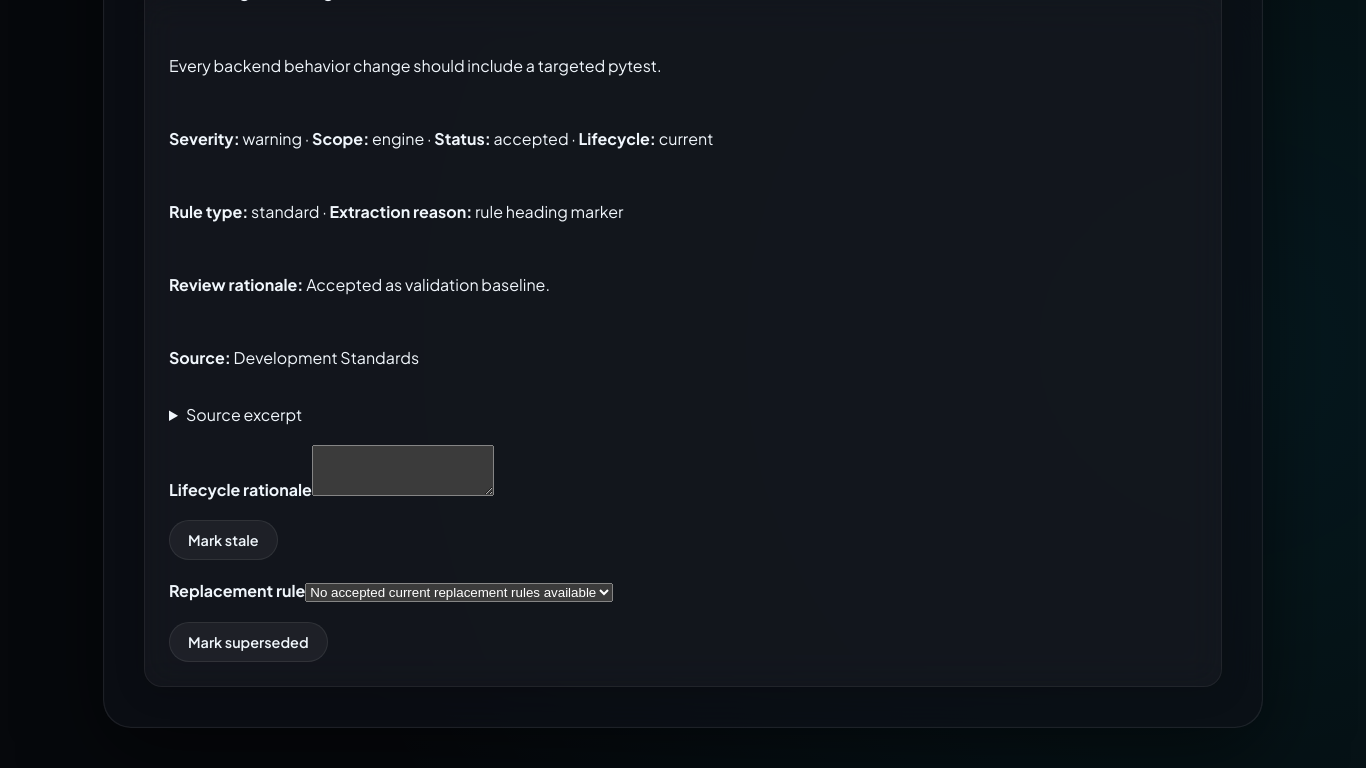
Test: GovernancePageContent › marks accepted current rules stale with rationale without a reload
(page scrolled)
Type "Replaced by stricter validation evidence." into the text box labelled "Lifecycle rationale" at (403, 471), box [312,445,494,496]
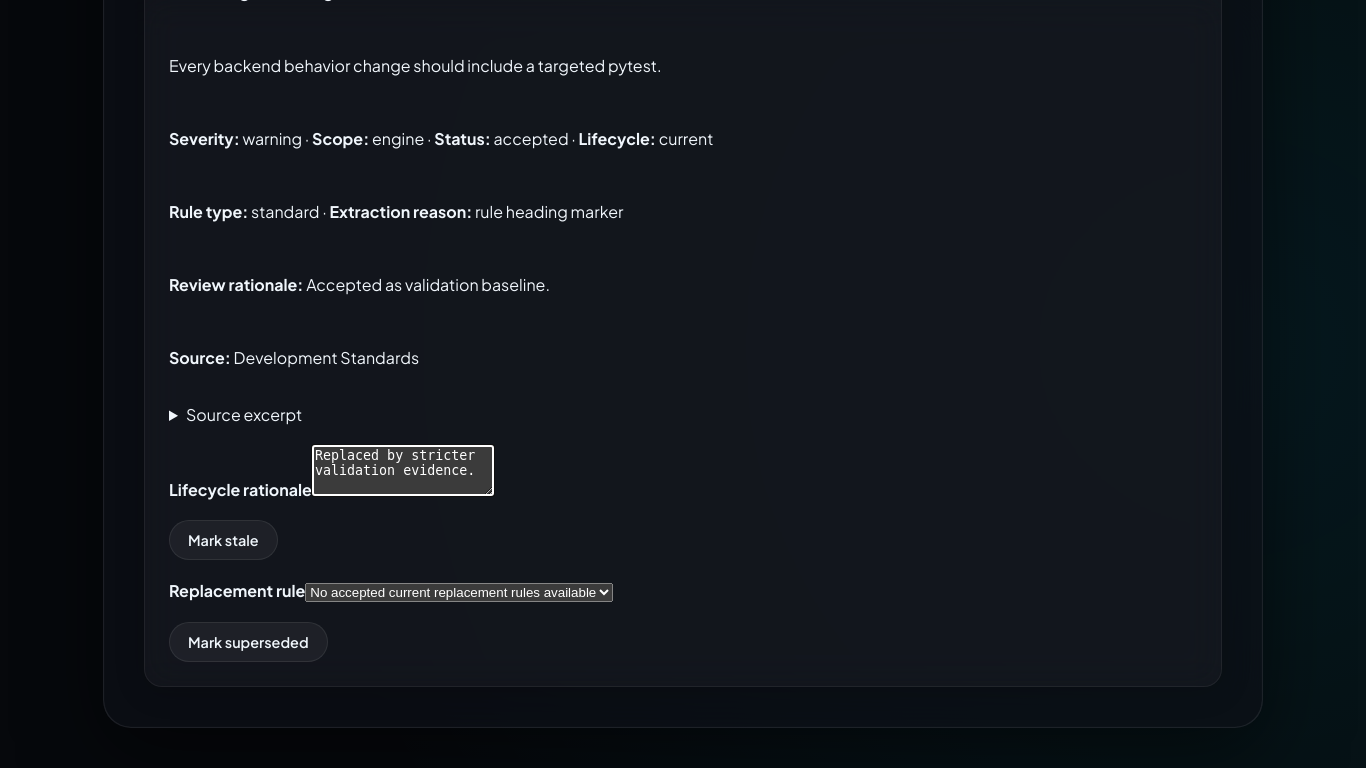
Click the button "Mark stale" at (223, 540), box [169,520,278,560]
(page scrolled)
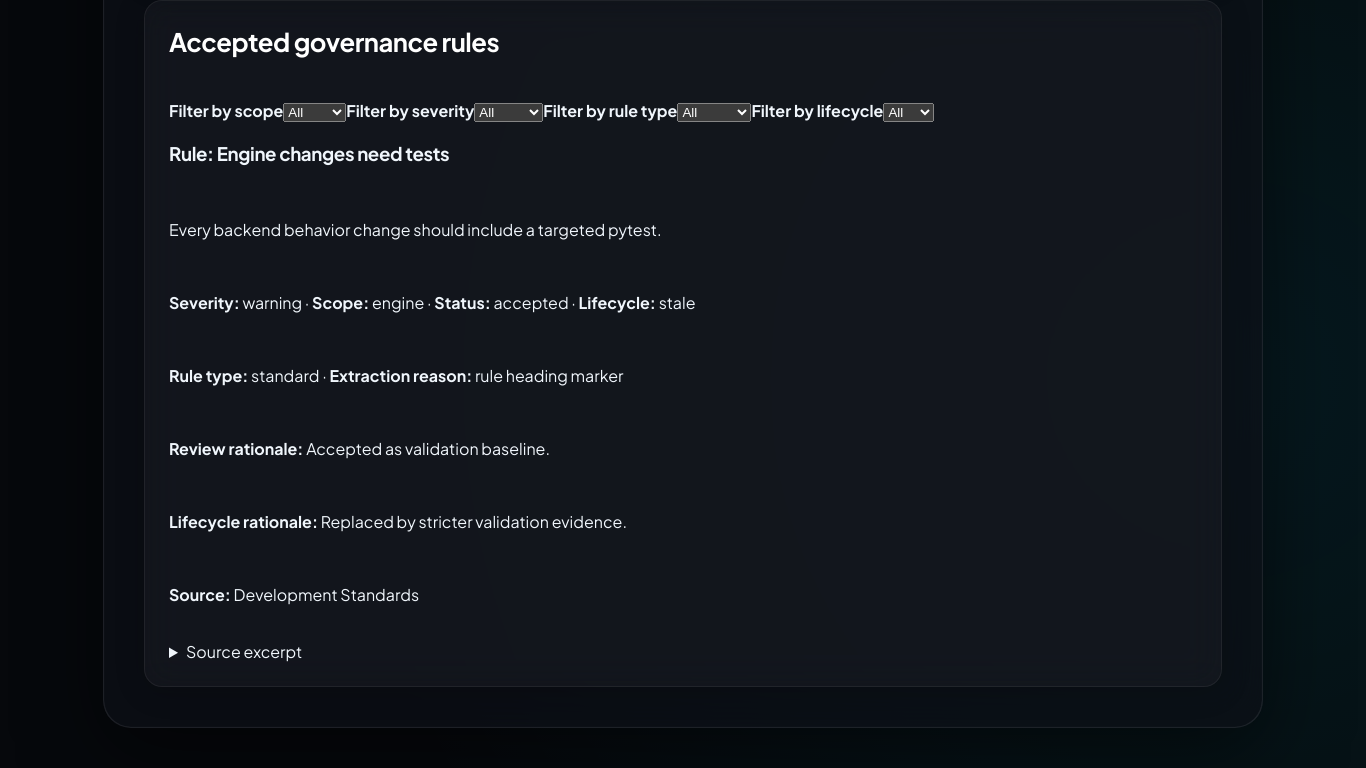
Now the text "Lifecycle rationale:" is shown, box [169,511,318,532]
Now the text "Replaced by stricter validation evidence" is shown, box [321,511,627,532]
Now the button "Mark stale" is gone
